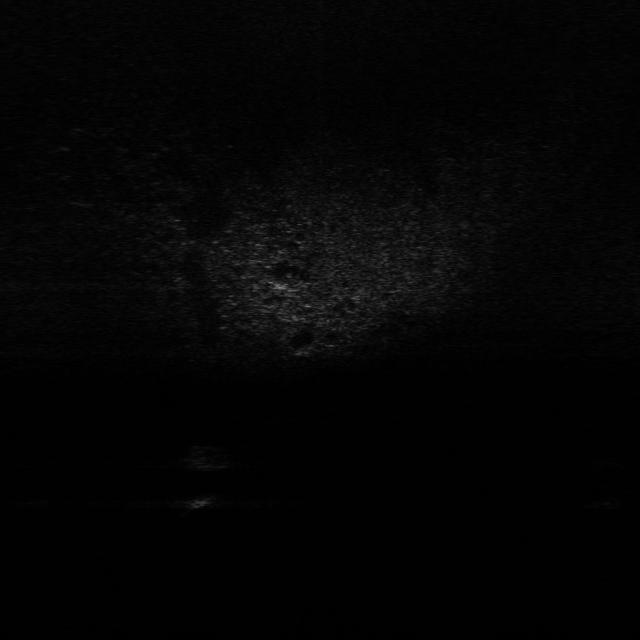circle cage: (182, 438, 229, 473)
cylinder: (184, 489, 218, 512)
